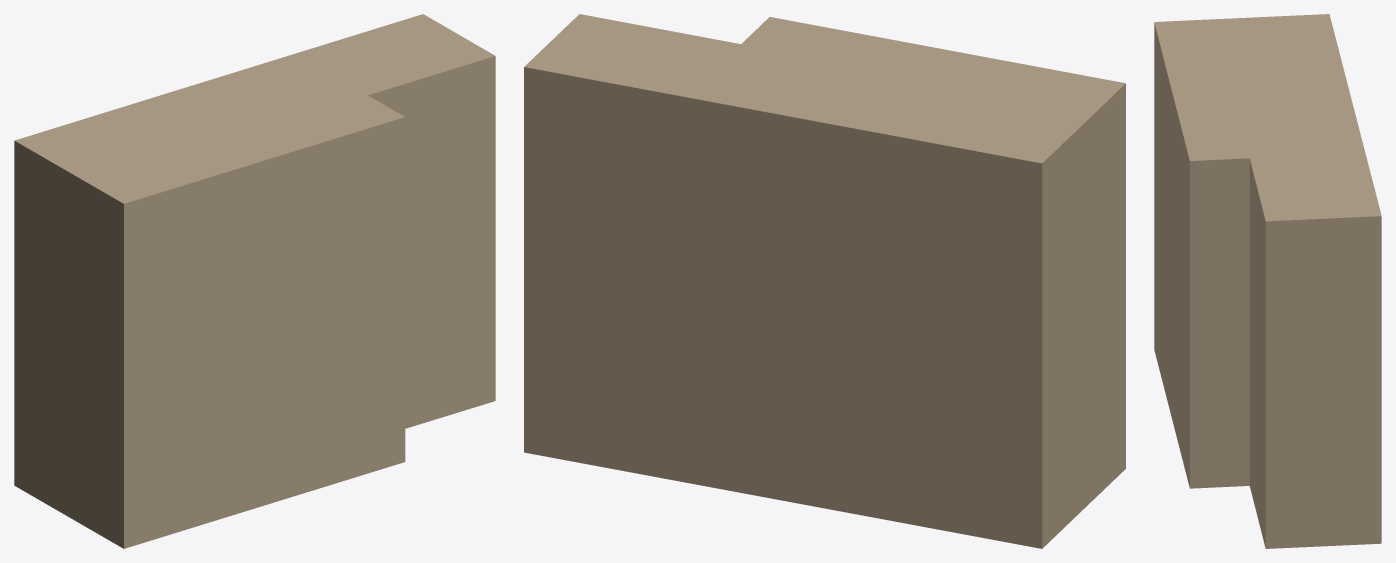
The model's file is bld_101572424.dae.
The picture shows the model from 3 angles, left to right: view 1: azimuth 30°, elevation 25°; view 2: azimuth 150°, elevation 25°; view 3: azimuth 270°, elevation 25°; orthographic projection. The views are drawn at different scales.
Parts seen in each view (by area): view 1: bld_101572424; view 2: bld_101572424; view 3: bld_101572424.
Part boxes in pixels (x1=…): bld_101572424: x1=14, y1=14, x2=495, y2=548; bld_101572424: x1=524, y1=14, x2=1125, y2=548; bld_101572424: x1=1154, y1=14, x2=1381, y2=548.
Bounding box in the file's own units: 10.86 × 5.04 × 8.
